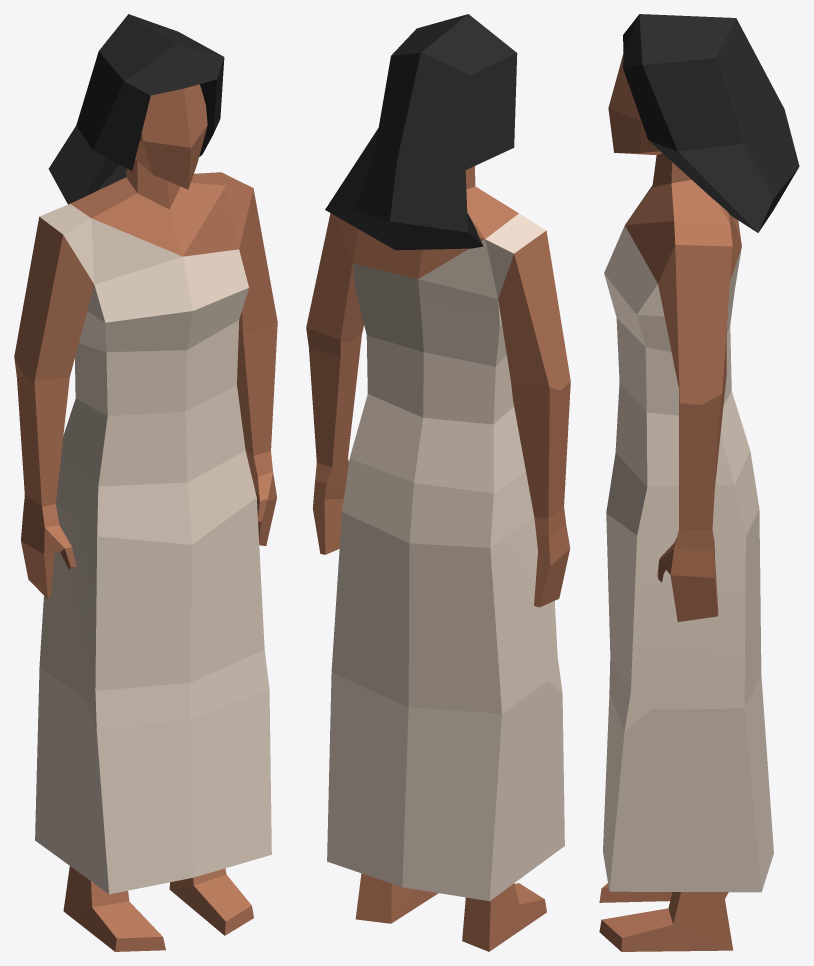
Rendered from people_woman-egypt-worker.fbx.
3 views of the same model, side by side, from view 1: azimuth 30°, elevation 25°; view 2: azimuth 150°, elevation 25°; view 3: azimuth 270°, elevation 25° (orthographic). The views are drawn at different scales.
Visible parts, largest first — view 1: people_woman_egypt_worker; view 2: people_woman_egypt_worker; view 3: people_woman_egypt_worker.
Boxes of the visible parts, bbox=[...] form: people_woman_egypt_worker: bbox=[14, 14, 277, 951]; people_woman_egypt_worker: bbox=[306, 14, 570, 951]; people_woman_egypt_worker: bbox=[599, 14, 799, 951].
Bounding box in the file's own units: 57.64 × 199 × 40.05.
